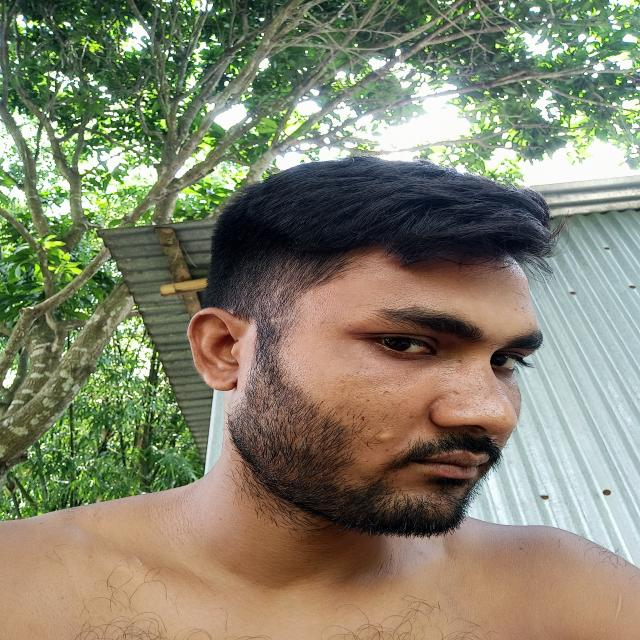Acne: (376, 430, 394, 446), (512, 304, 527, 311), (384, 448, 391, 452)
Englarged-Pores: (332, 369, 410, 435), (436, 368, 493, 418), (376, 266, 449, 304), (305, 290, 348, 330)
